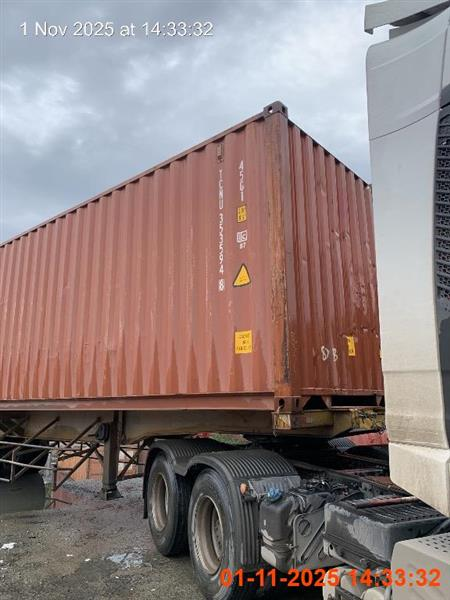crack: (5, 24, 449, 599)
